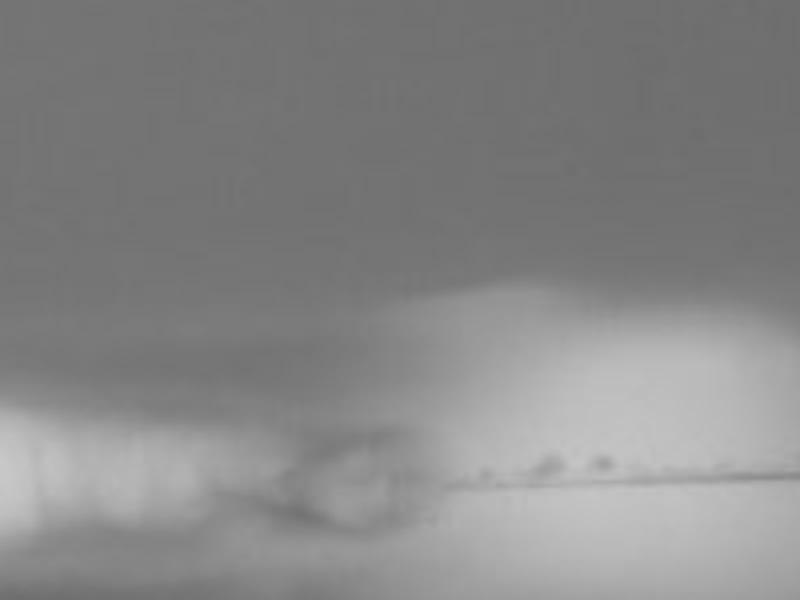defect: (530, 454, 563, 476), (591, 452, 620, 476)
